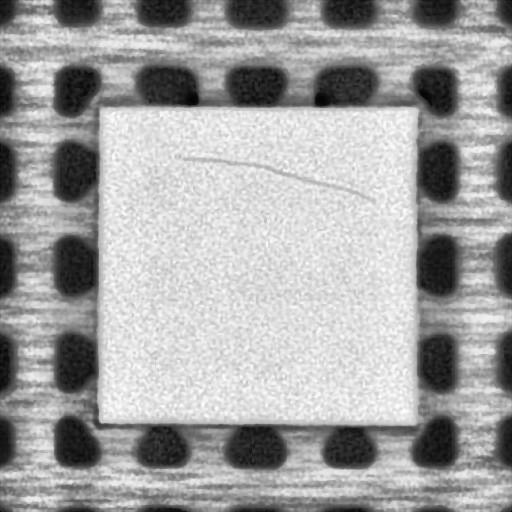DIE_CRACK: (176, 152, 374, 202)
